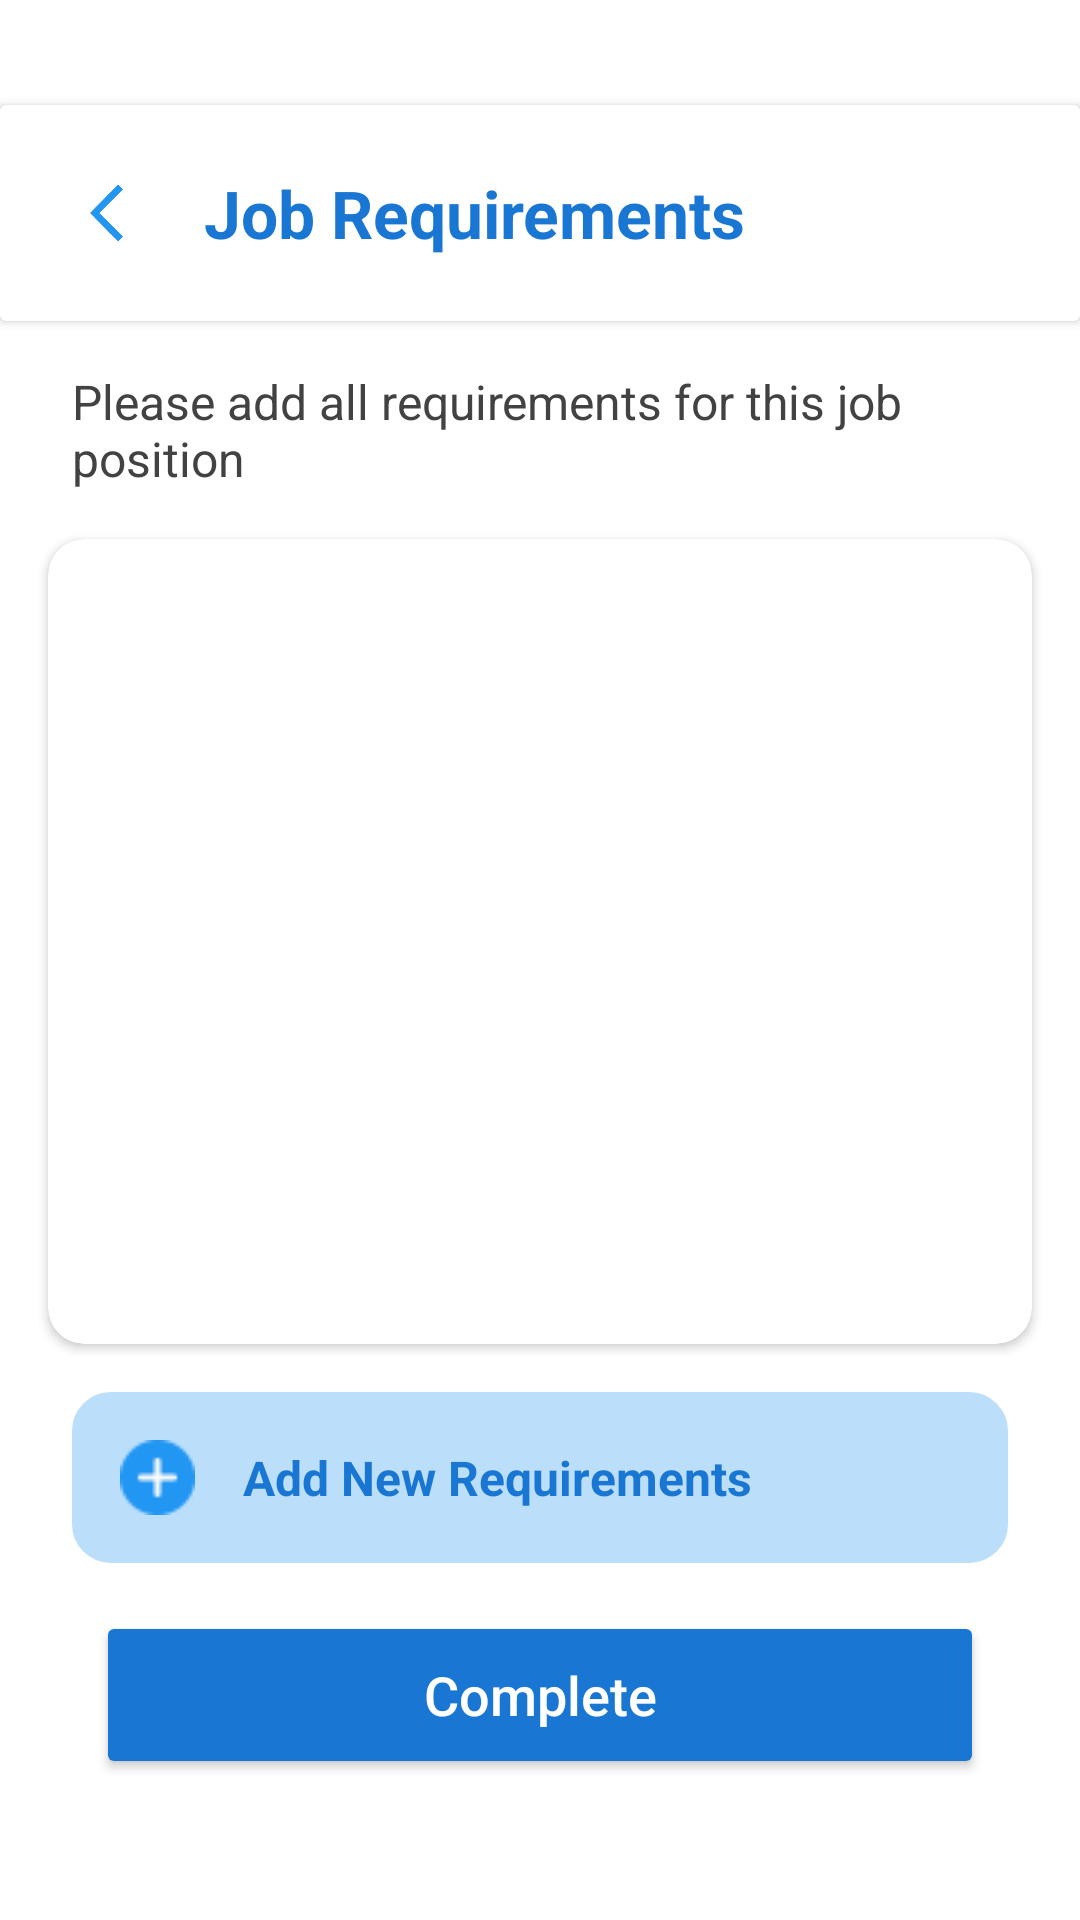

Icons on this 1080×1920 Android screen, each with its box as (x1, y1, x2, y2):
Back button: (90, 184, 123, 242)
